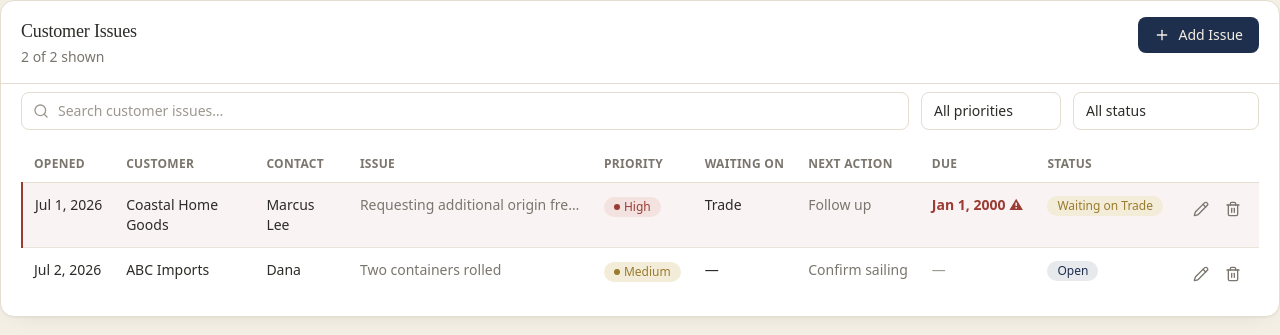
Test case: ResourceView › filters rows by search text
Type "Coastal" into the field with placeholder "Search customer issues…" at (465, 111), box [21,92,909,130]
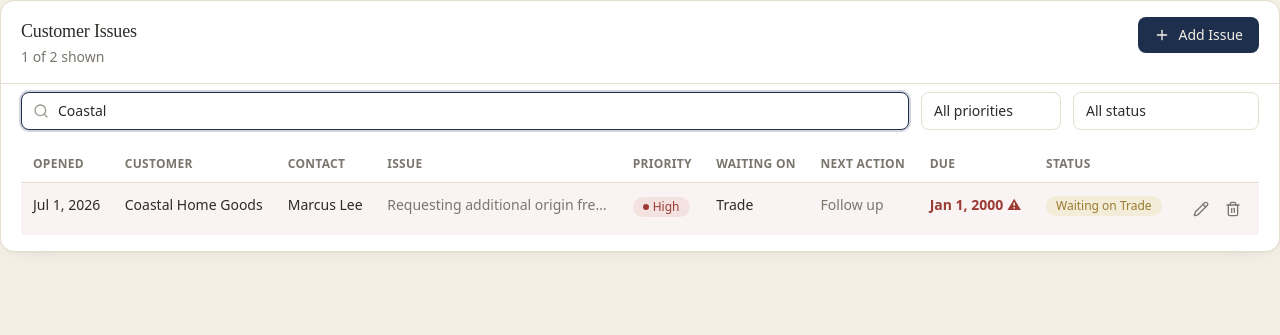
expect the text "Coastal Home Goods" is shown: met, box [125,195,263,214]
expect the text "ABC Imports" is gone: met
